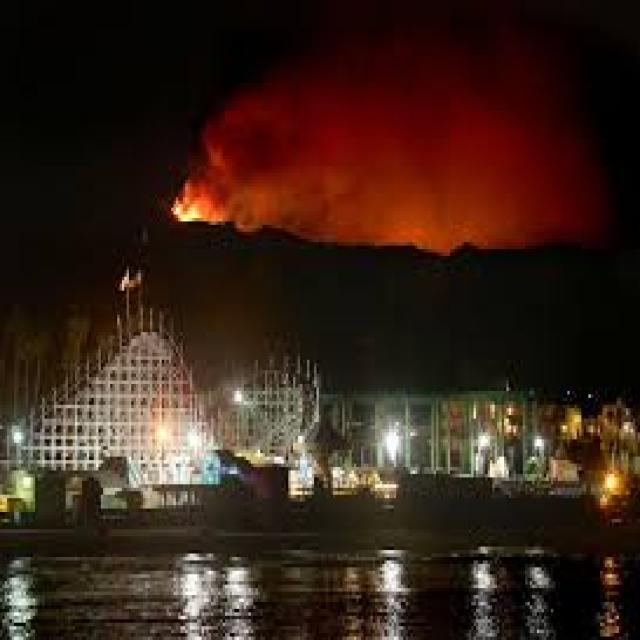Fire: (171, 202, 201, 220)
Smoke: (205, 9, 608, 243)
